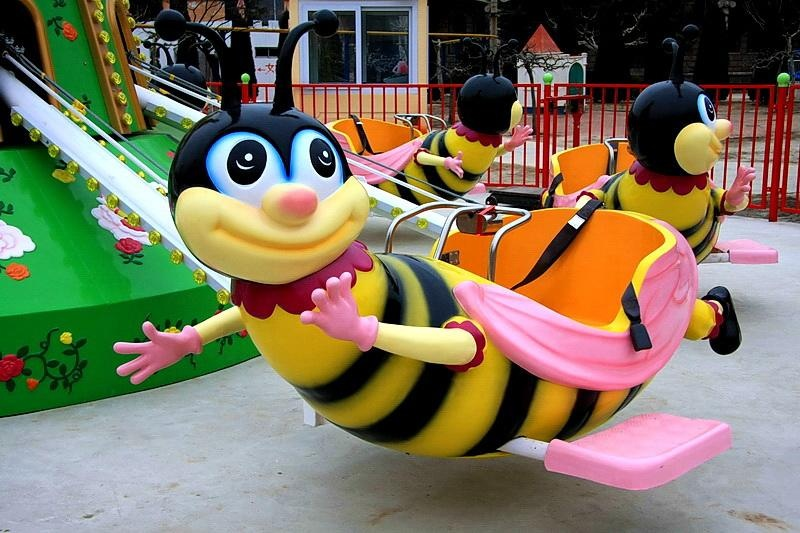falling: (125, 152, 757, 490)
